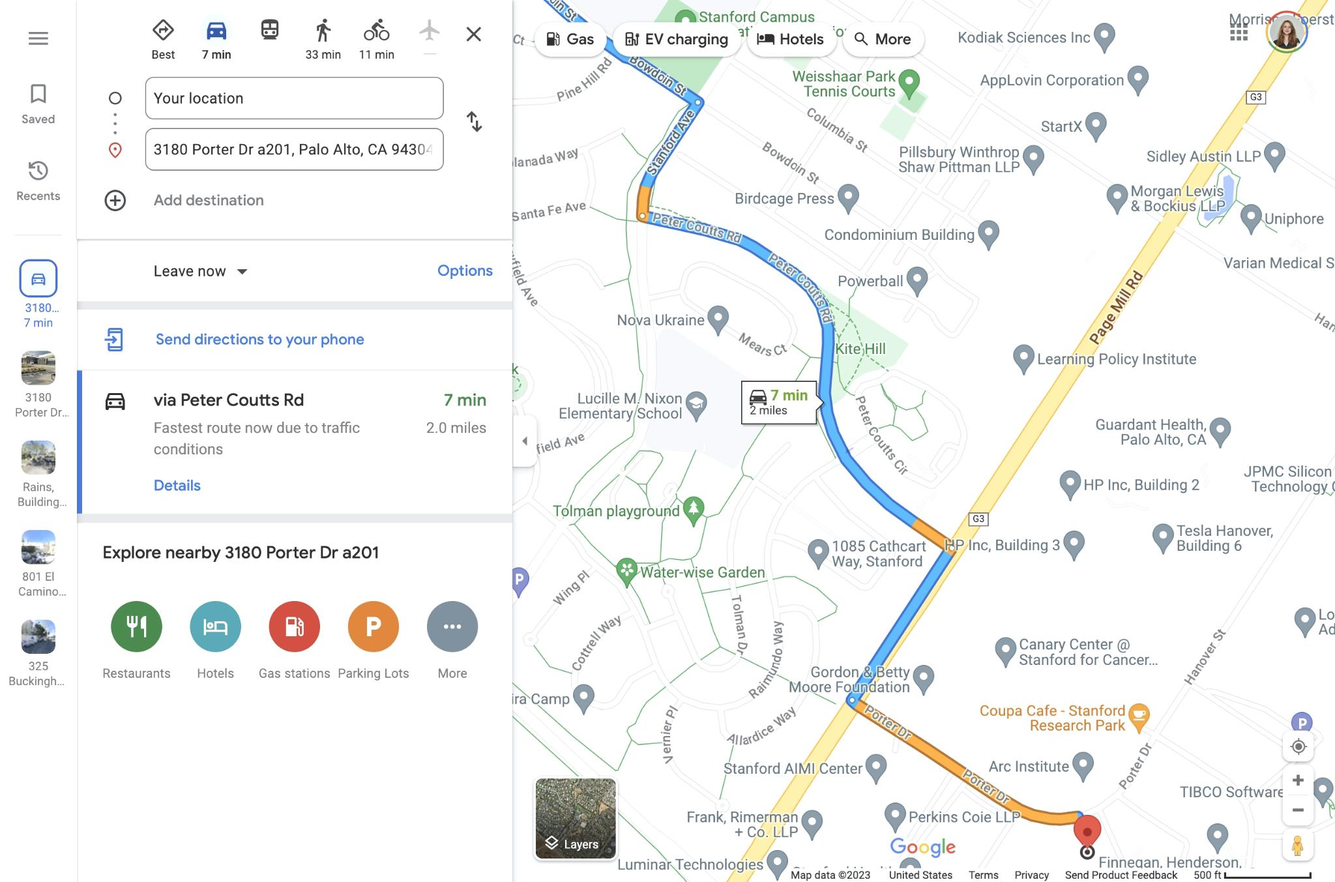webelement: (0, 0, 1334, 881), (76, 0, 511, 881), (0, 0, 76, 881), (76, 371, 511, 515), (518, 13, 940, 64), (136, 7, 511, 62), (96, 587, 175, 692), (175, 587, 254, 692), (254, 587, 333, 692), (333, 587, 412, 692), (412, 587, 491, 692), (153, 419, 358, 458), (153, 84, 434, 110), (153, 136, 434, 161), (790, 868, 1192, 882), (0, 72, 76, 131), (613, 22, 741, 55), (443, 91, 502, 150), (747, 22, 835, 55), (0, 16, 76, 54), (426, 251, 502, 289), (842, 22, 923, 55), (142, 467, 210, 505), (353, 7, 398, 62), (140, 7, 184, 62), (194, 7, 238, 62), (300, 7, 344, 62), (534, 22, 606, 55), (450, 8, 495, 59), (153, 190, 262, 209), (645, 28, 728, 49), (153, 261, 229, 282), (511, 79, 547, 115), (511, 131, 547, 167), (511, 415, 535, 466), (20, 261, 54, 295), (436, 260, 492, 279), (789, 869, 872, 881), (1282, 828, 1313, 860), (1282, 730, 1313, 761), (1282, 764, 1313, 795), (1282, 794, 1313, 825), (779, 28, 823, 49), (153, 476, 199, 495), (874, 28, 910, 49), (353, 46, 398, 62), (194, 46, 238, 62), (300, 46, 344, 62), (309, 16, 335, 41), (416, 16, 442, 41), (101, 327, 127, 352), (101, 388, 127, 413), (150, 16, 175, 41), (203, 16, 228, 41), (257, 16, 282, 41), (363, 16, 388, 41), (566, 28, 593, 49), (542, 29, 561, 48), (756, 29, 775, 48), (850, 29, 869, 48), (28, 268, 47, 287), (541, 833, 560, 852), (622, 29, 640, 48)
